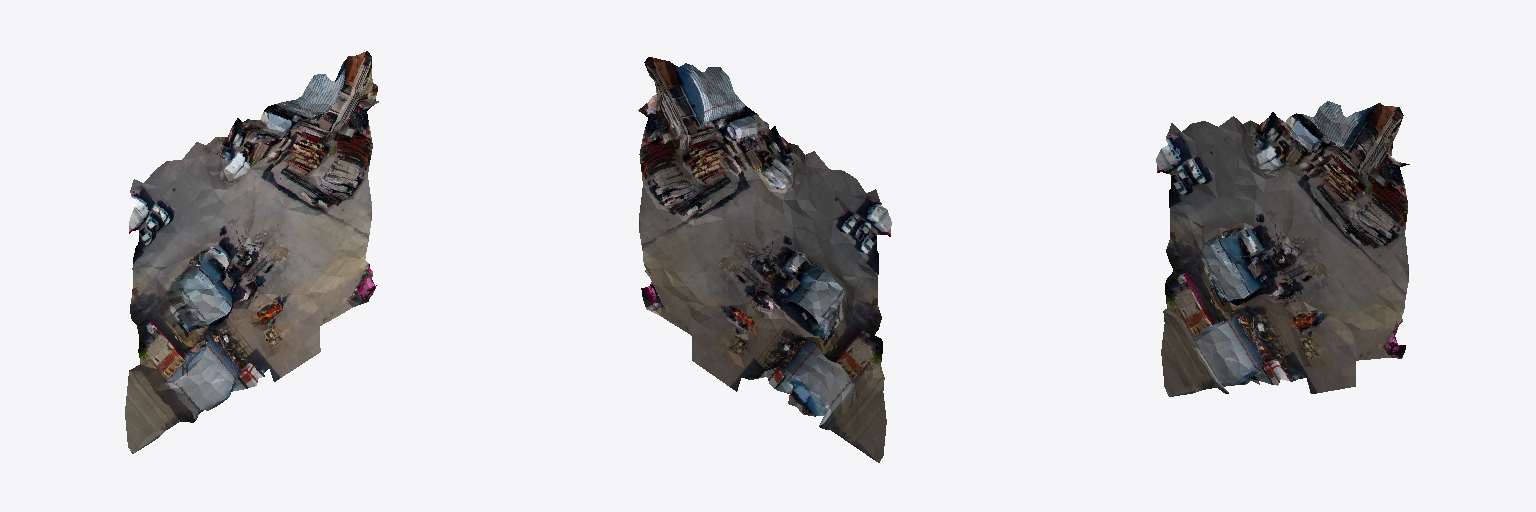
3 views of the same model, side by side, from view 1: azimuth 30°, elevation 25°; view 2: azimuth 150°, elevation 25°; view 3: azimuth 330°, elevation 25° (orthographic).
Size of the model in its own units: 68.65 by 91.36 by 7.36.
1 materials, 1 textured.